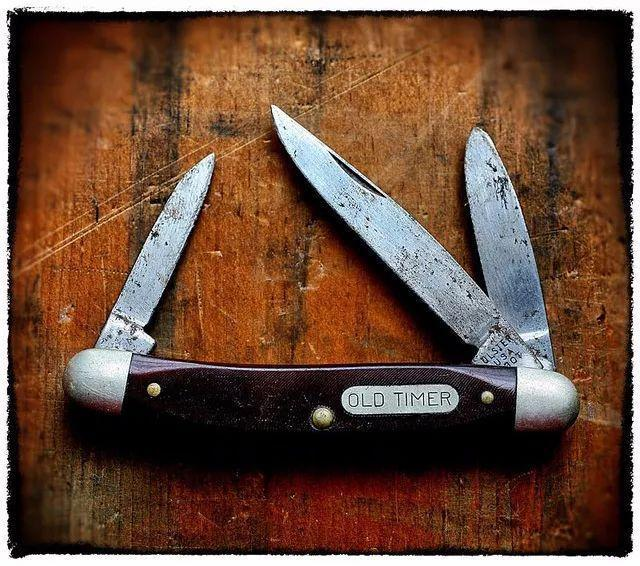knife: (59, 98, 613, 525)
